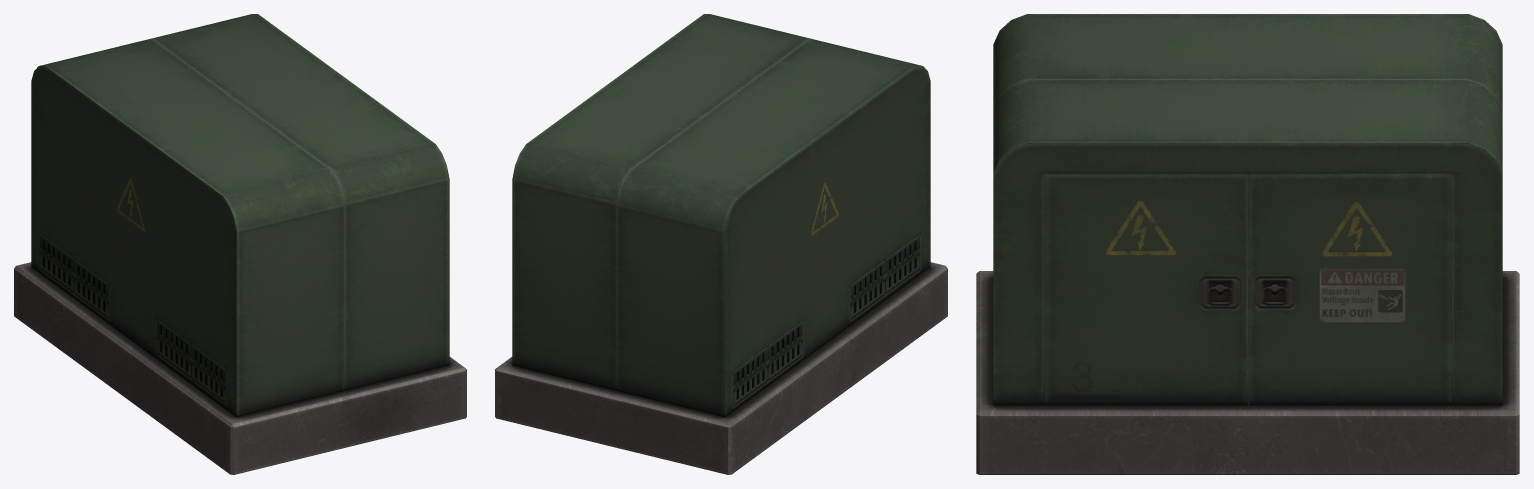
File: powerBox_1.fbx
3 views of the same model, side by side, from view 1: azimuth 30°, elevation 25°; view 2: azimuth 150°, elevation 25°; view 3: azimuth 270°, elevation 25° (orthographic). The views are drawn at different scales.
Visible parts, largest first — view 1: Box006; view 2: Box006; view 3: Box006.
Part boxes in pixels (x1=…): Box006: x1=14, y1=14, x2=466, y2=474; Box006: x1=495, y1=14, x2=947, y2=474; Box006: x1=976, y1=14, x2=1519, y2=474.
Size of the model in its own units: 508 by 536 by 813.
